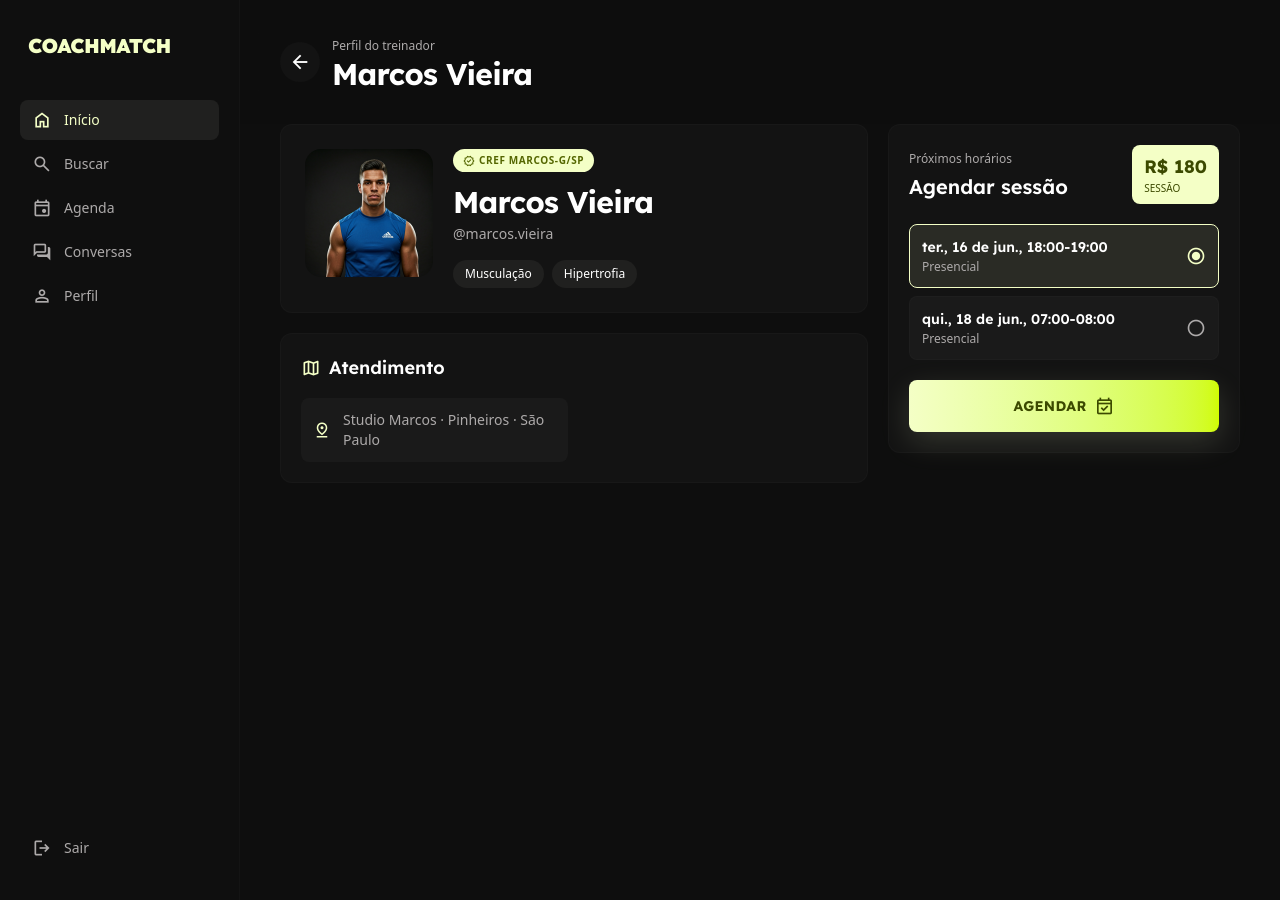
ClientCoachDetailPage › renderiza detalhes do treinador e permite solicitar agendamento
Expected: the number of headings "Marcos Vieira" is 2, [332,56,532,92]; [453,183,653,221]
Expected: the text "Musculação" is shown, [453,260,544,288]
Click the button "AGENDAR": (1064, 406) [909,380,1219,432]
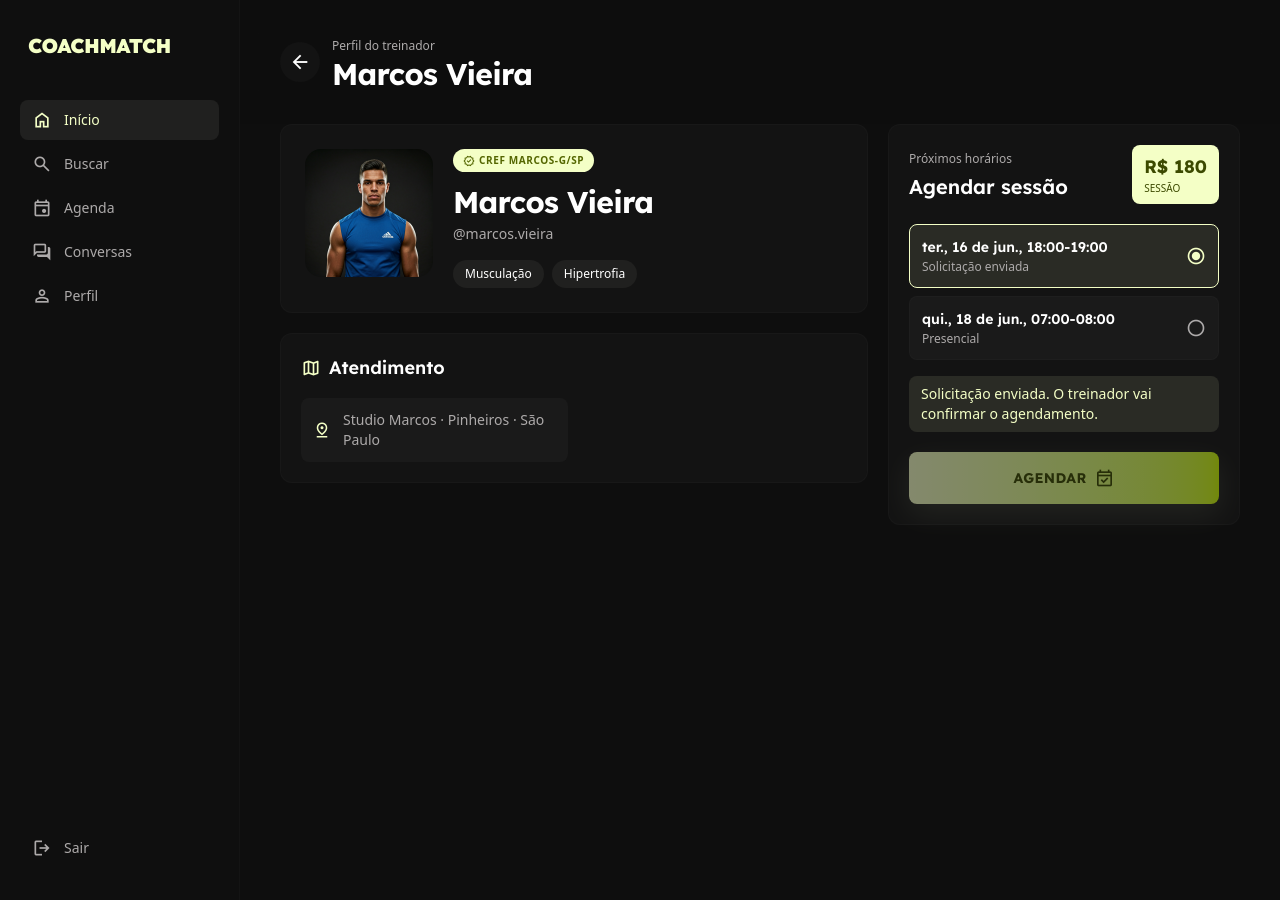
Expected: the text "Solicitação enviada. O treinador vai confirmar o agendamento." is shown, [909,376,1219,432]
